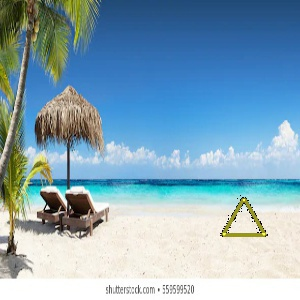triangle: (219, 194, 269, 241)
